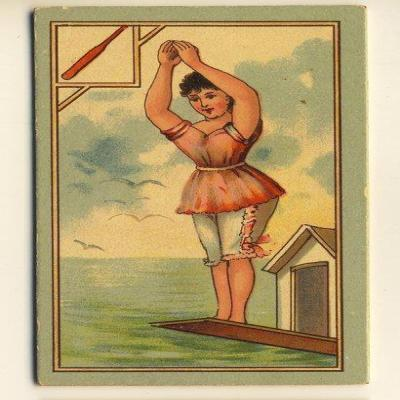graphics: (32, 5, 368, 389)
